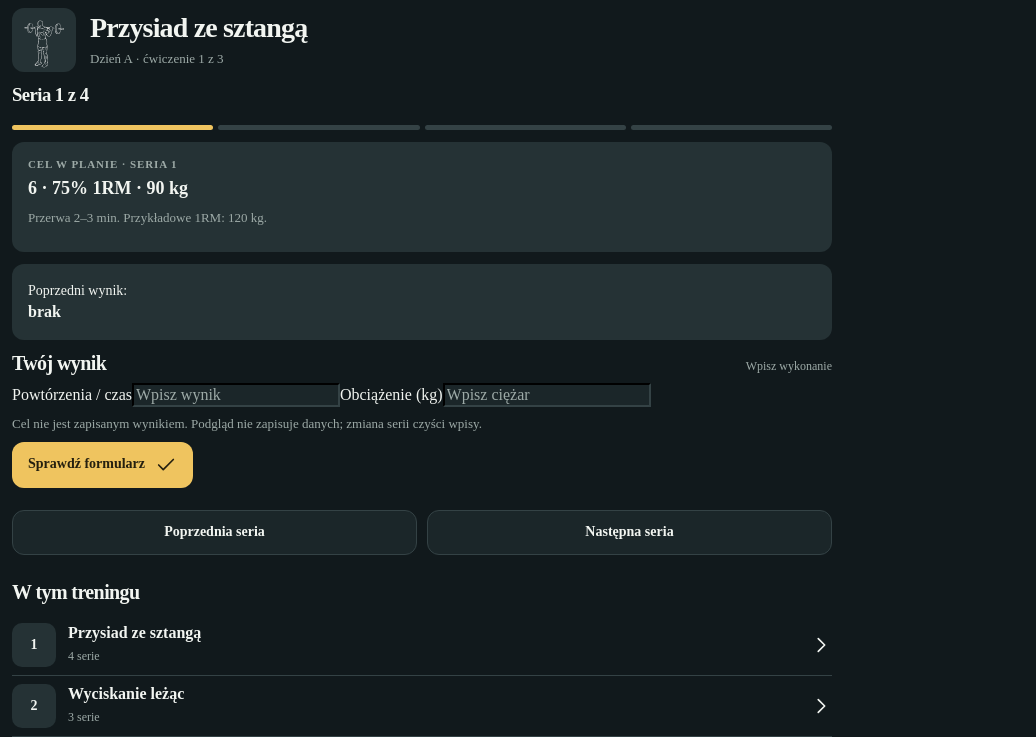
Test: przechodzi między seriami i czyści niezapisany formularz
This screenshot has width=1036, height=737.
Type "6" into the field with placeholder "Wpisz wynik" at coordinates (236, 395), box [132,383,340,407]
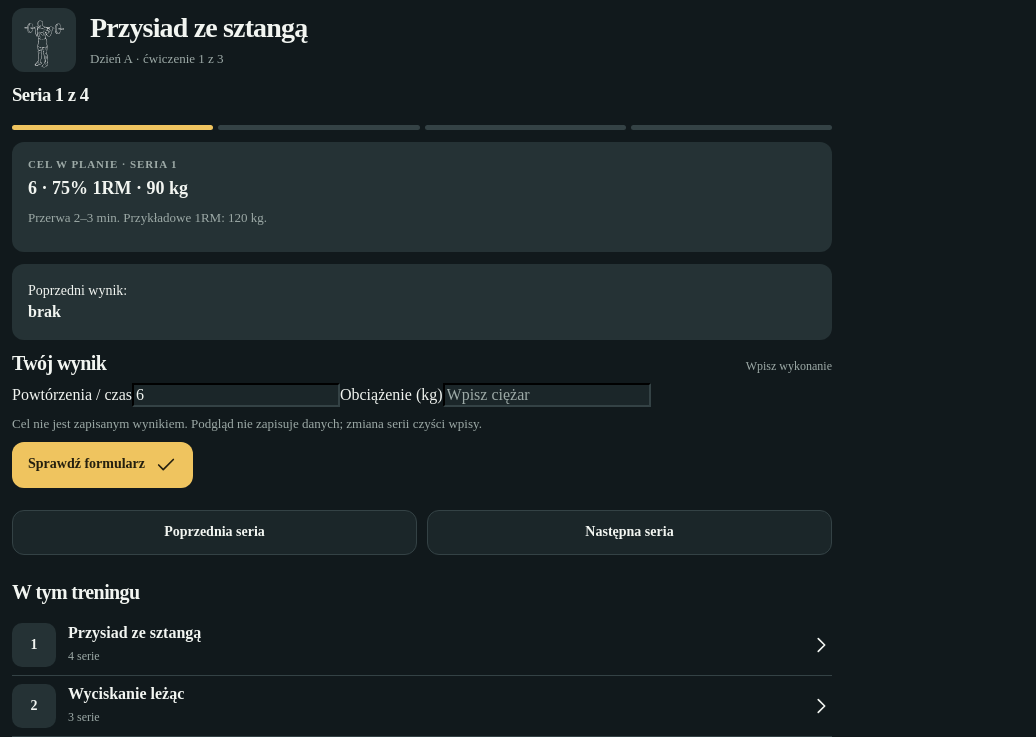
Click the button "Następna seria" at coordinates (630, 532), box [427,510,832,555]
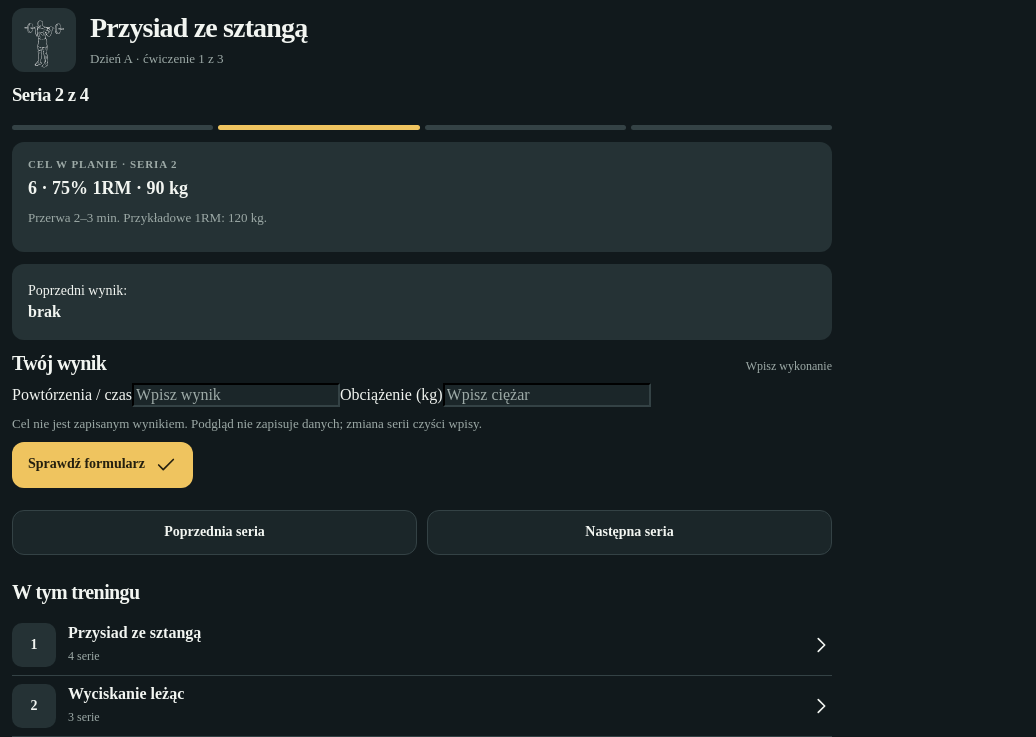
Expected: the text "Podgląd nie zapisuje danych" is shown, [12,416,482,431]
Expected: the heading "Seria 2 z 4" is shown, [12,84,88,105]
Expected: the field with placeholder "Wpisz wynik" is empty, [132,383,340,407]
